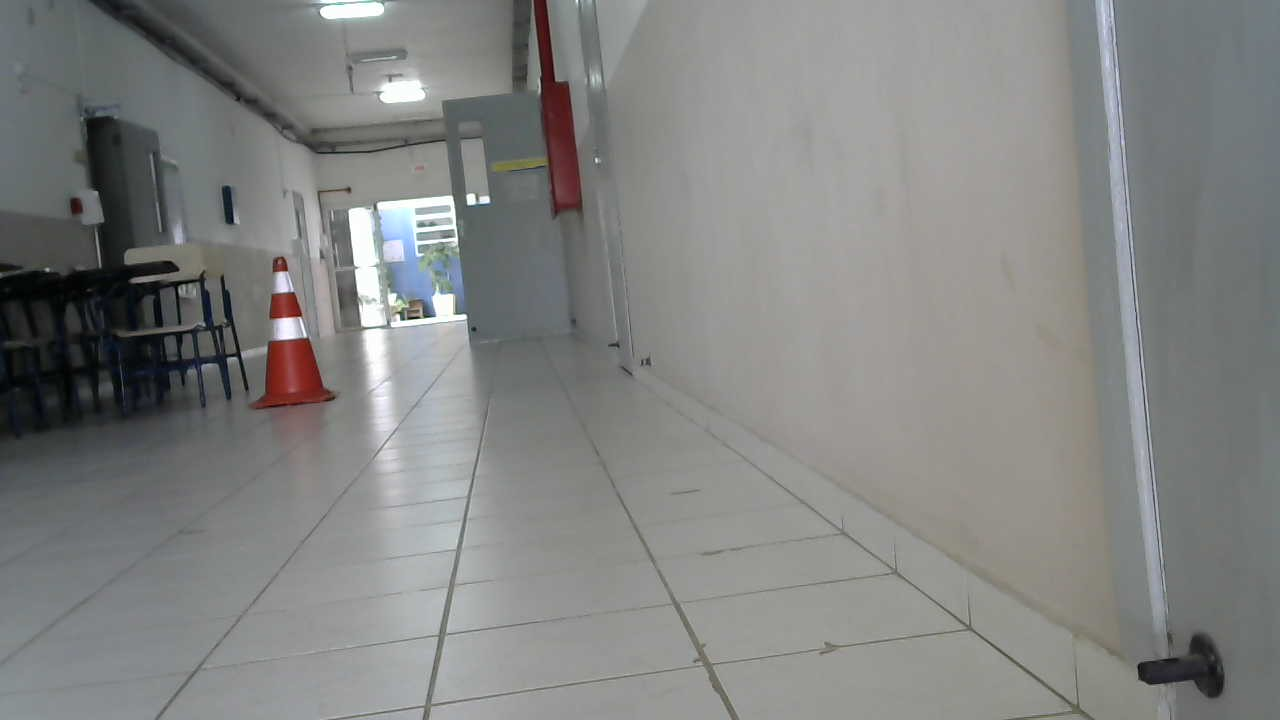cone: (254, 255, 337, 405)
